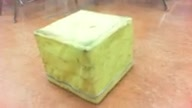cube: (33, 9, 135, 105)
